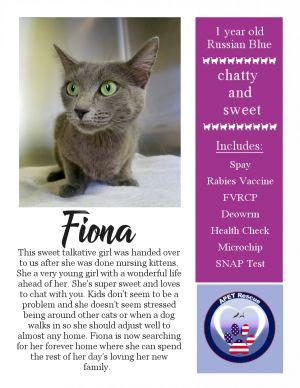rblue: (40, 33, 166, 151)
